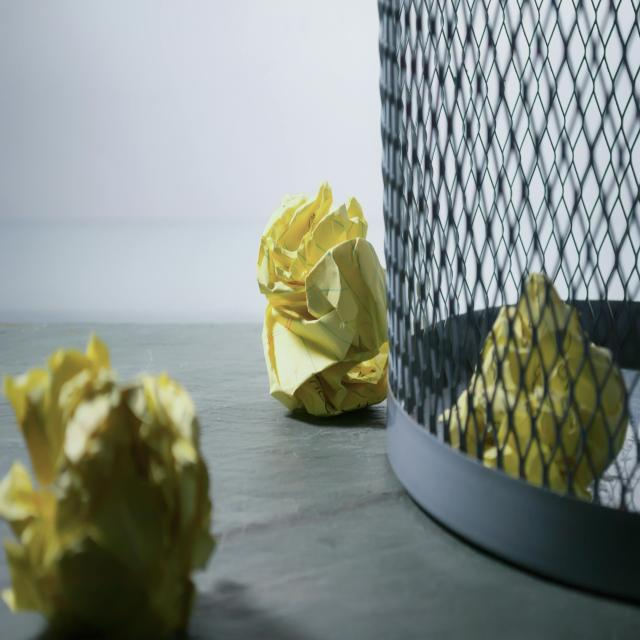paper: (29, 388, 171, 588), (274, 210, 371, 398), (497, 348, 572, 458)
